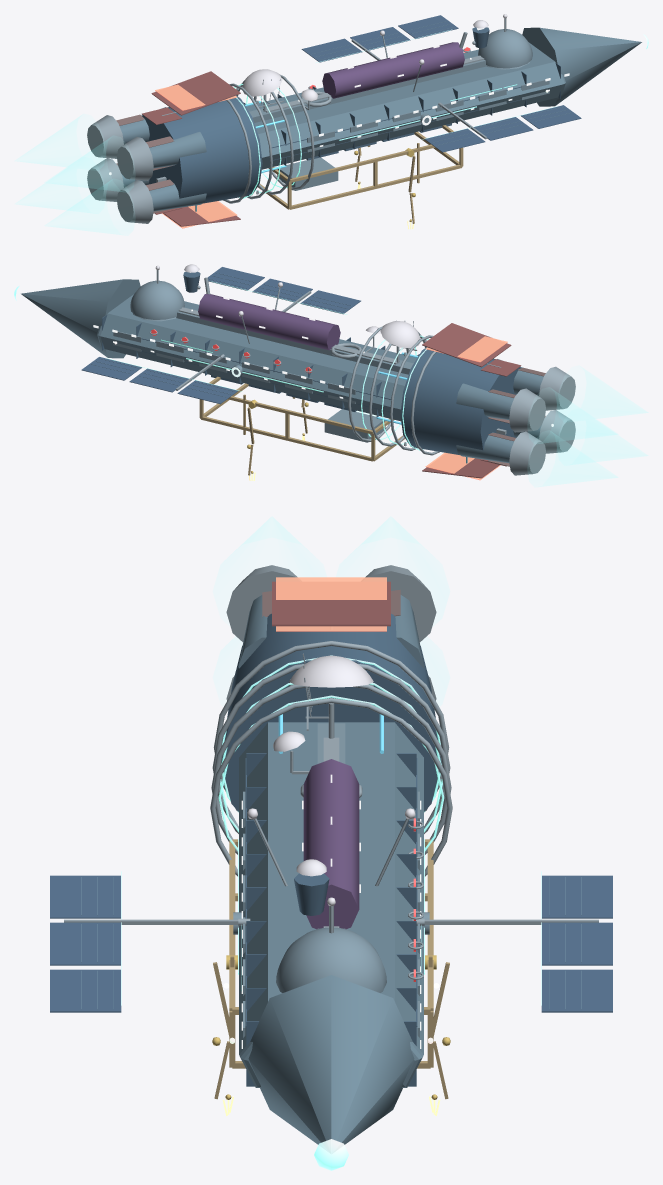
File: ESV_Pathfinder.glb
3 views of the same model, one above another, from view 1: azimuth 30°, elevation 25°; view 2: azimuth 150°, elevation 25°; view 3: azimuth 270°, elevation 25° (orthographic). The views are drawn at different scales.
Parts seen in each view (by area): view 1: ESV_Pathfinder; view 2: ESV_Pathfinder; view 3: ESV_Pathfinder.
Part boxes in pixels (box(x1,y1,x2,y2)): ESV_Pathfinder: box(15, 14, 648, 234); ESV_Pathfinder: box(14, 264, 647, 486); ESV_Pathfinder: box(50, 517, 612, 1170).
Bounding box in the file's own units: 36.05 × 9.53 × 14.2.
